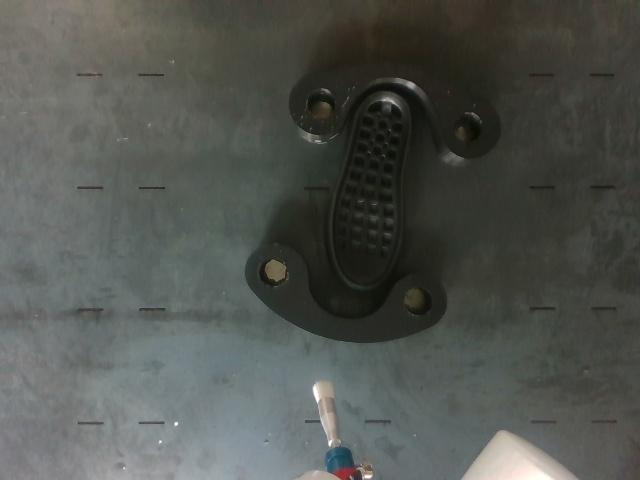shoes: (332, 95, 409, 285)
